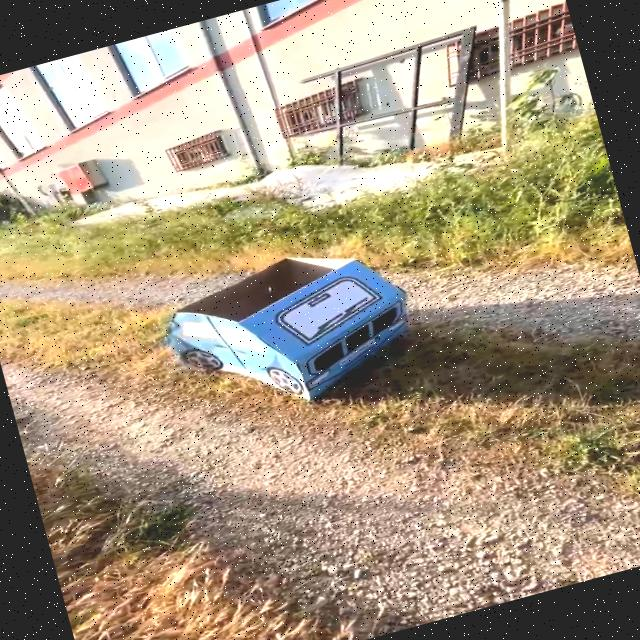blue_car: (103, 179, 518, 457)
